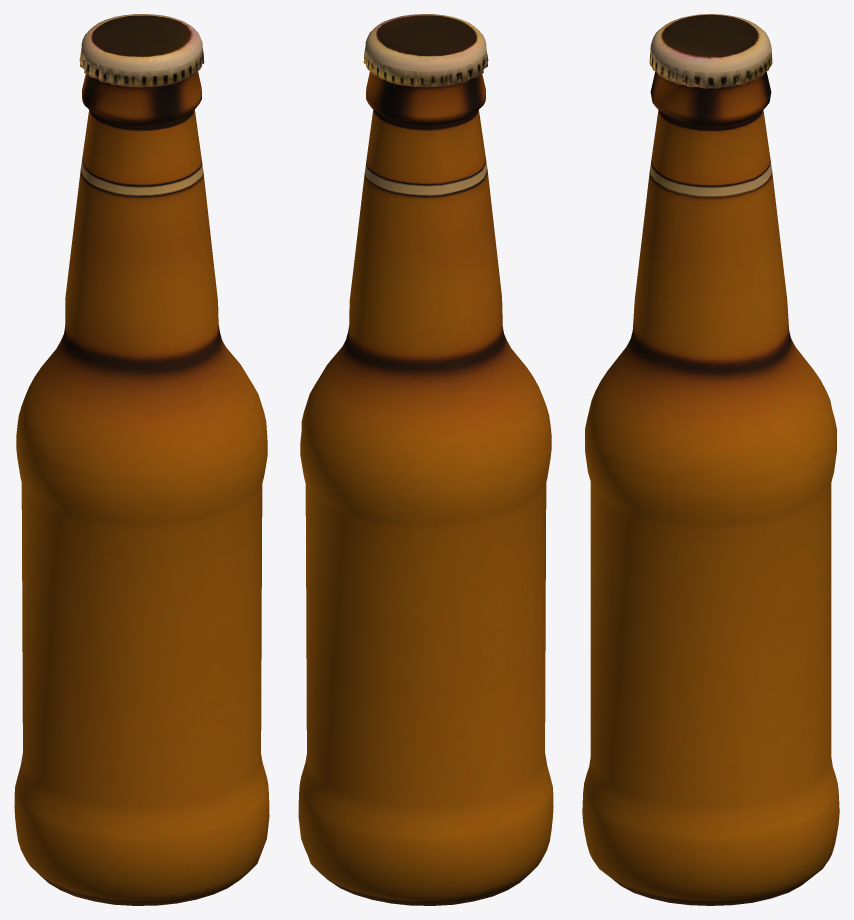
The model's file is BeerBottles__BeerBottle2.cluster.glb.
3 views of the same model, side by side, from view 1: azimuth 30°, elevation 25°; view 2: azimuth 150°, elevation 25°; view 3: azimuth 270°, elevation 25° (orthographic).
Visible parts, largest first — view 1: BeerBottle2; view 2: BeerBottle2; view 3: BeerBottle2.
Boxes of the visible parts, <box> form: BeerBottle2: <box>14,14,269,905</box>; BeerBottle2: <box>298,14,553,905</box>; BeerBottle2: <box>582,14,839,905</box>.
Size of the model in its own units: 0.5331 by 1.9 by 0.537.
Materials: 1 (1 with a texture image).
